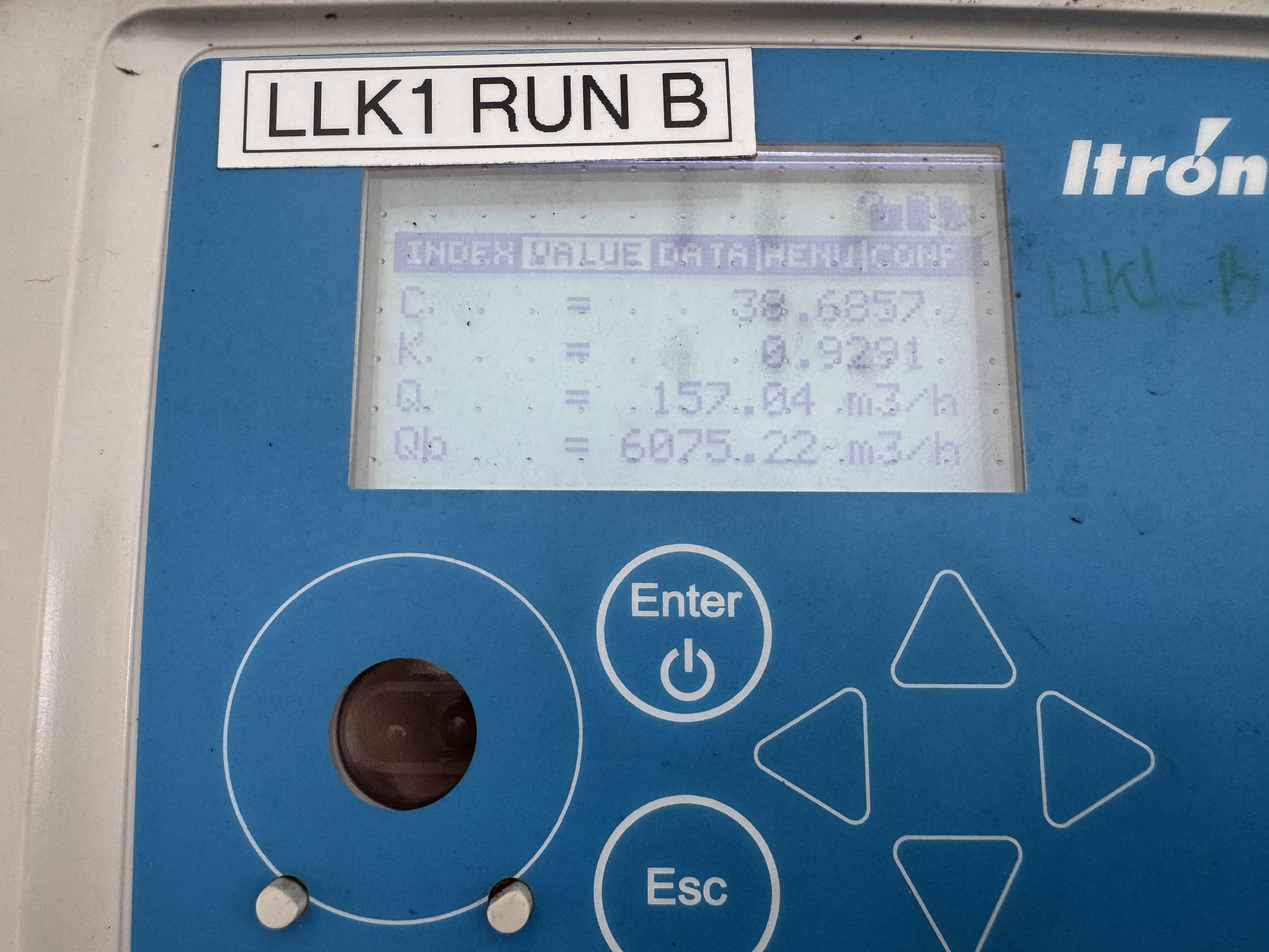digital_screen: (349, 141, 1027, 492)
